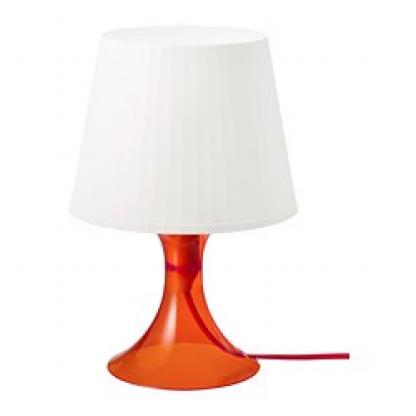Lamp: (60, 7, 309, 401)
